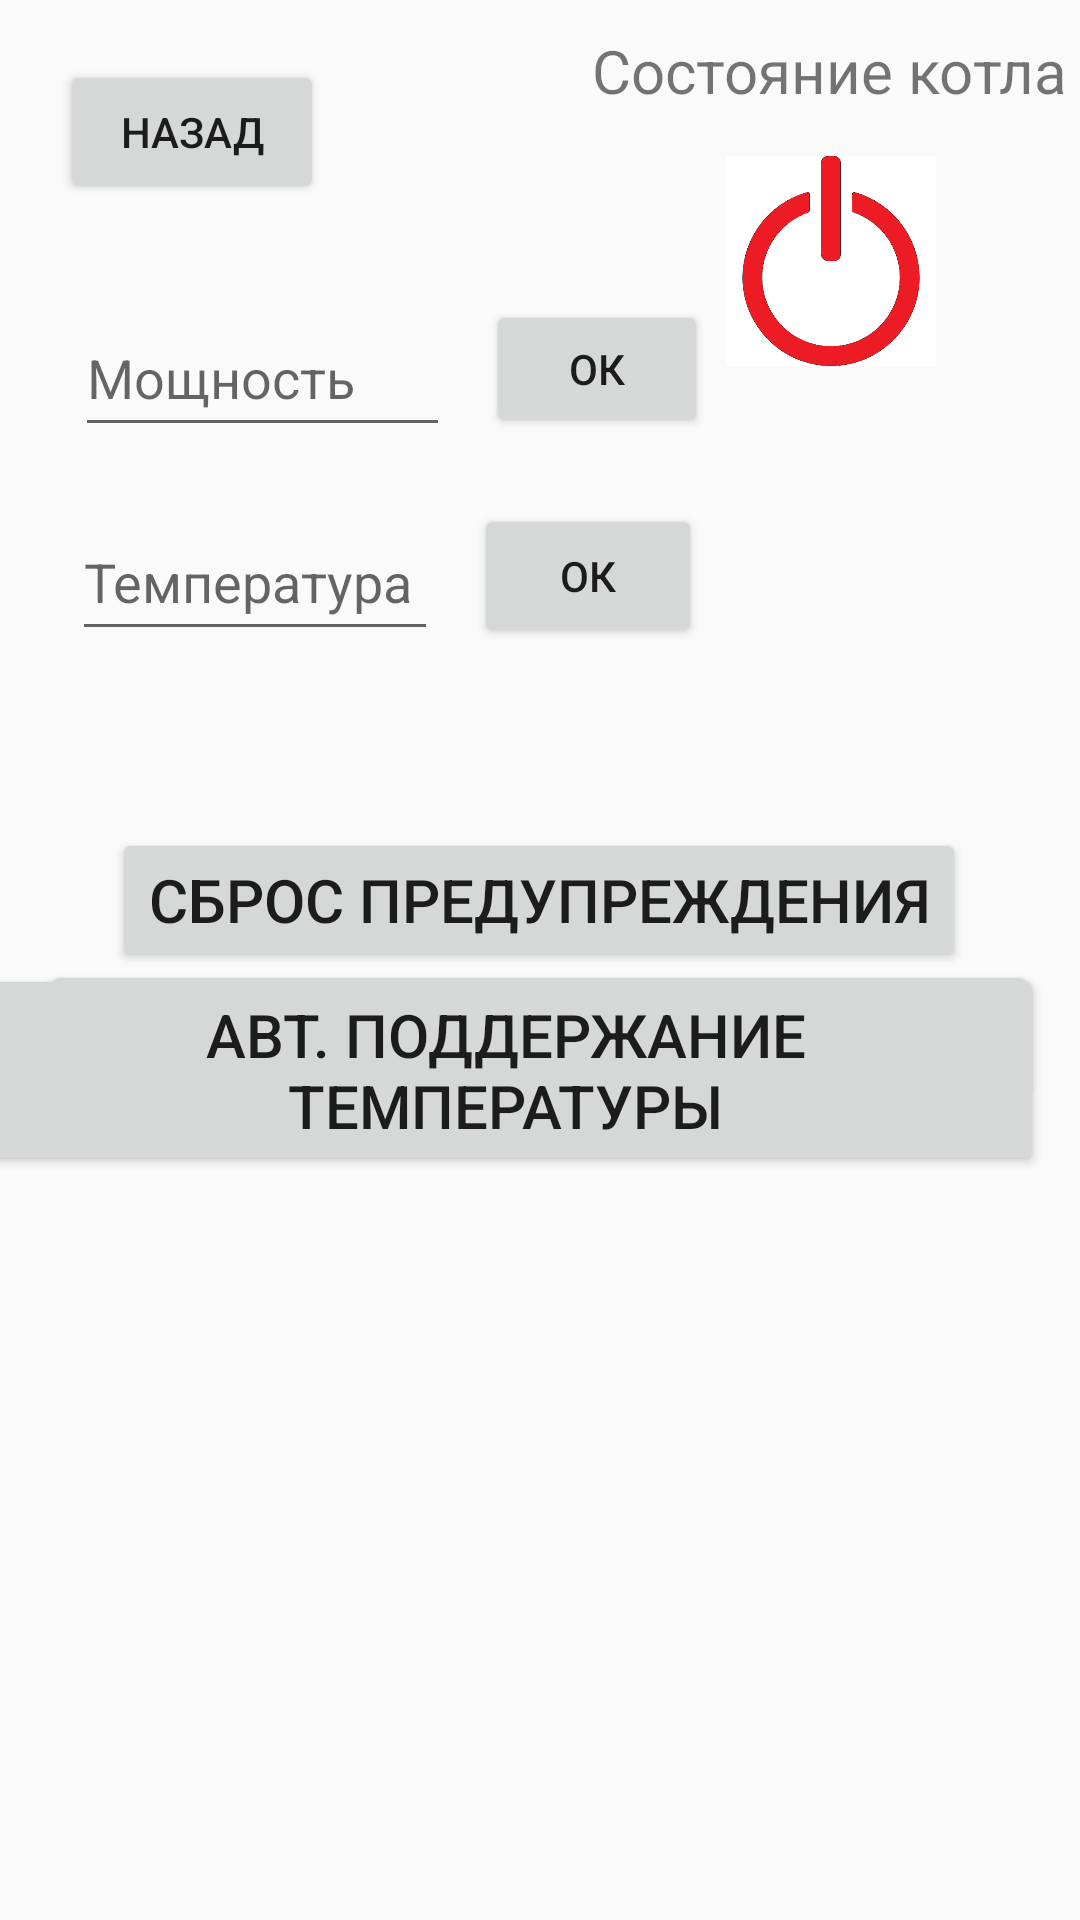

Icons on this 1080x1920 Android screen, each with its box as detection(x1, y1, x2, y2):
off: detection(742, 156, 920, 366)
